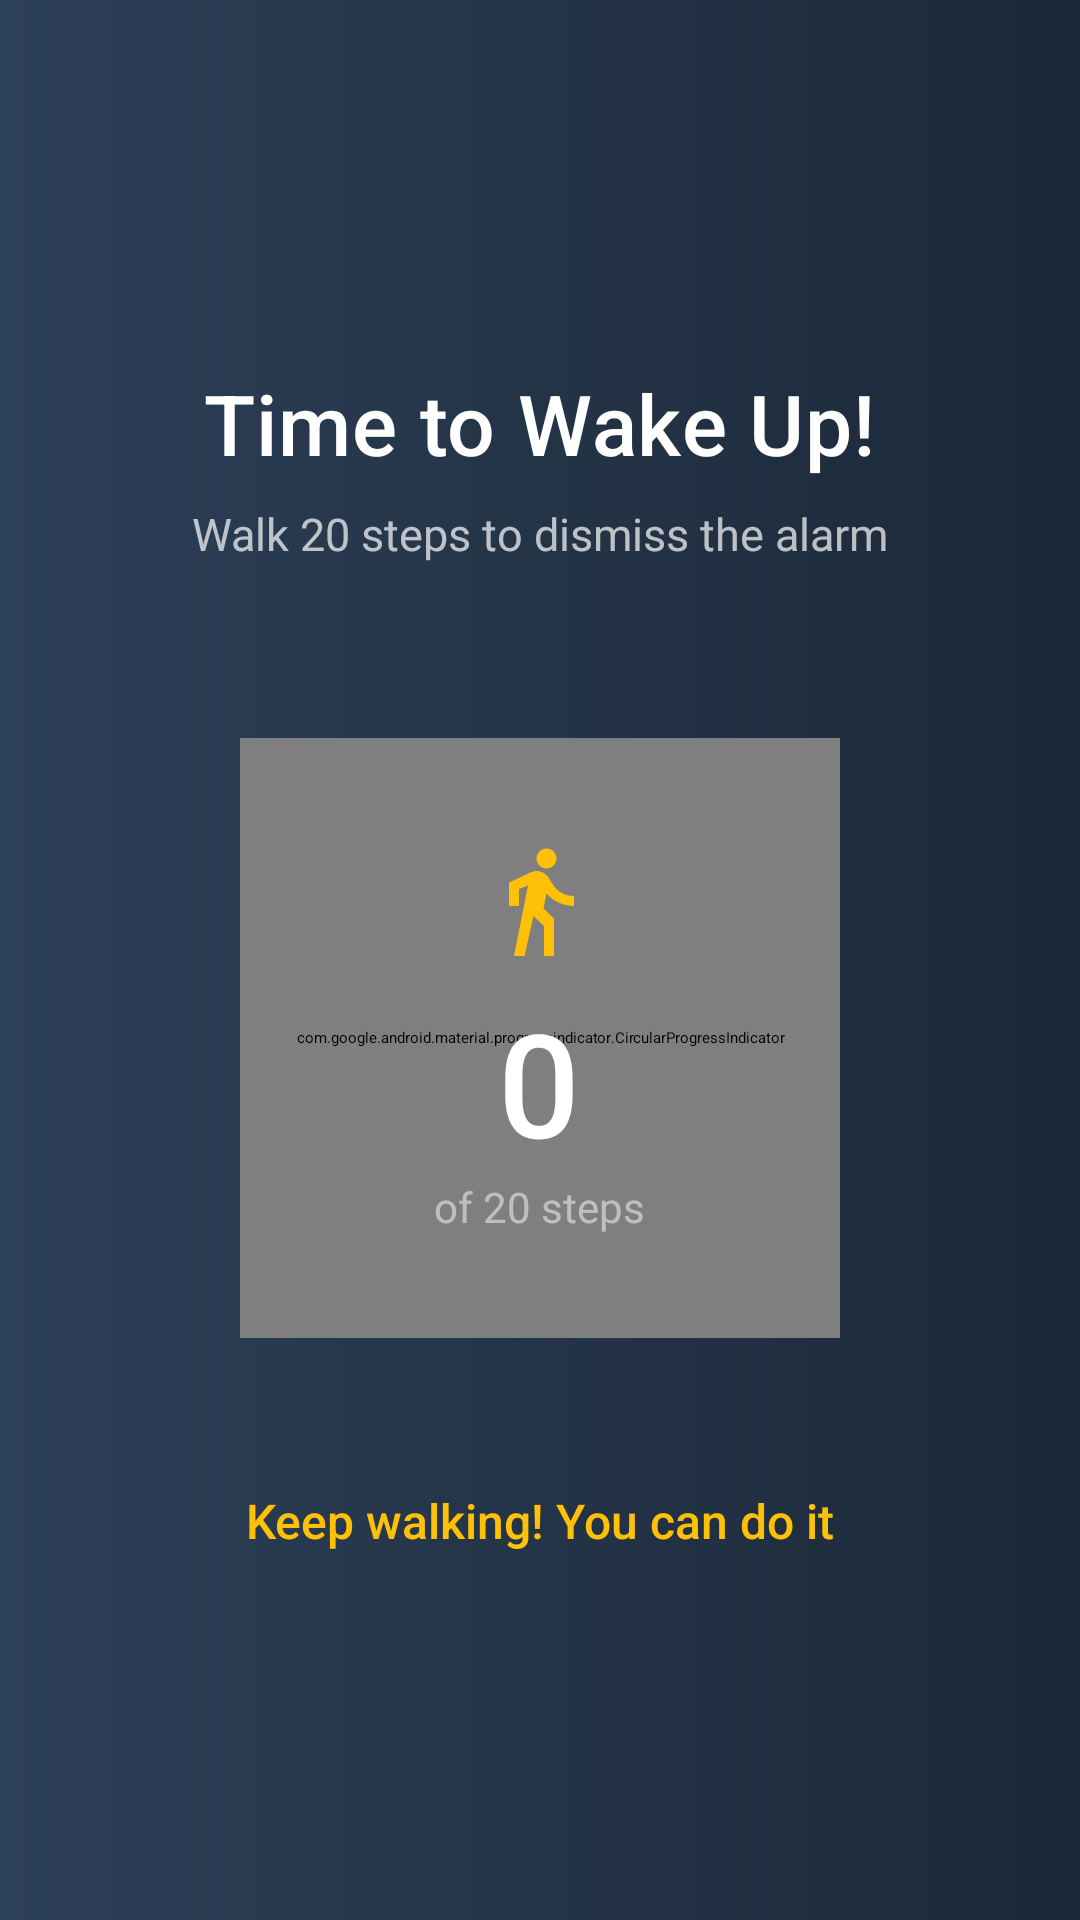

Icons on this 1080px×1920px Android screen, each with its box as box=[x1, y1, x2, y2]:
walking: box=[509, 848, 574, 956]
